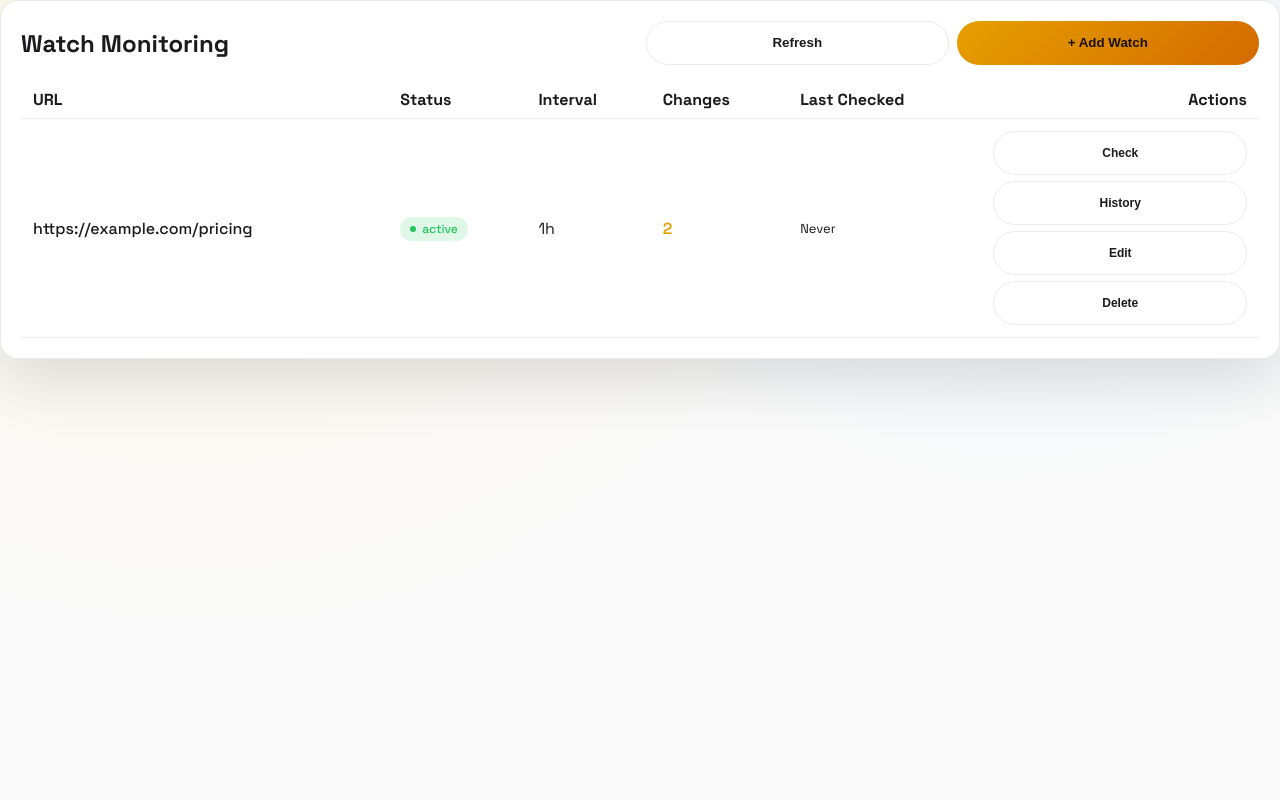
Test: WatchManager › ignores late watch-history detail responses after the modal closes
Click the button "History": (1120, 203) [994,181,1247,225]
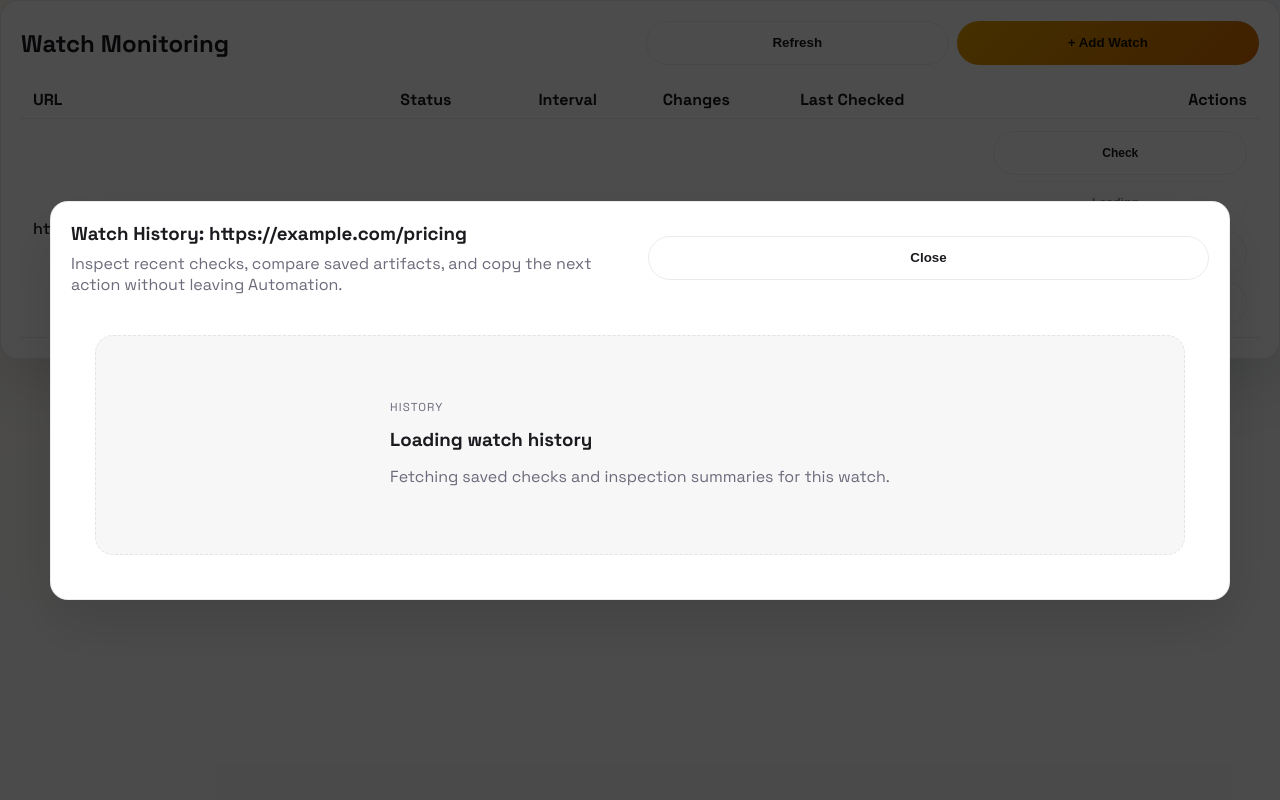
Result: the heading "Watch History: https://example.com/pricing" is shown at [71,222,467,244]
Click the button "Close": (928, 258) [648,236,1209,280]
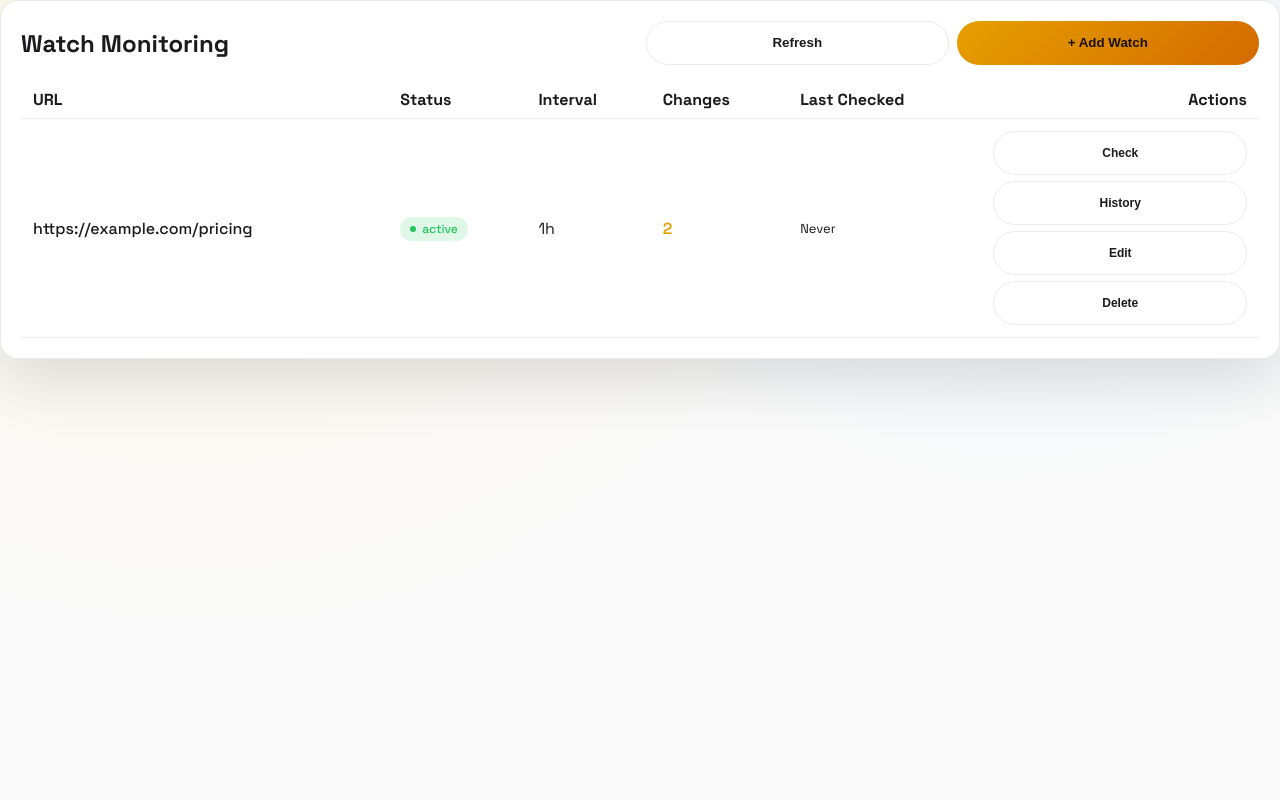
Result: the heading "Watch History: https://example.com/pricing" is gone
